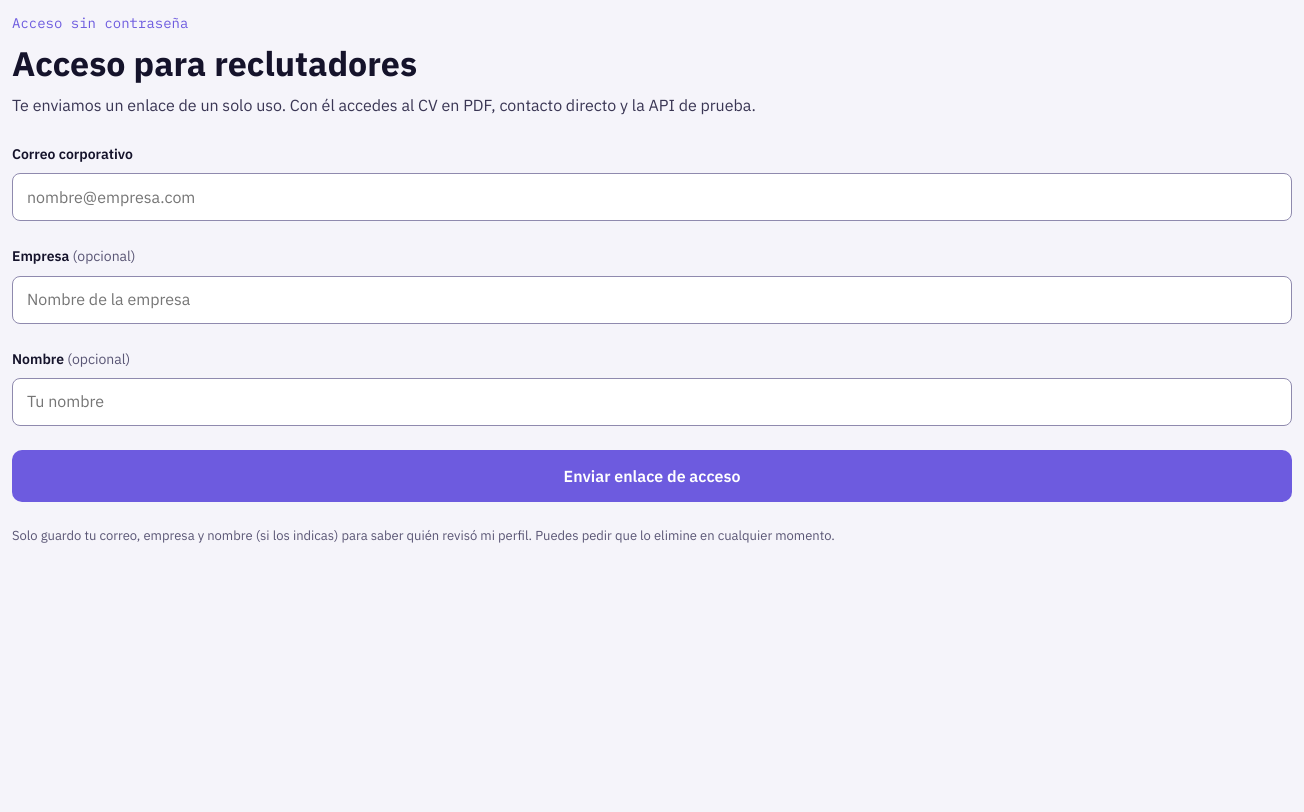
it: LoginForm validation › rejects an invalid email with a different message
Type "no-es-correo" into the field labelled "Correo corporativo" at (652, 198), box [12,174,1292,222]
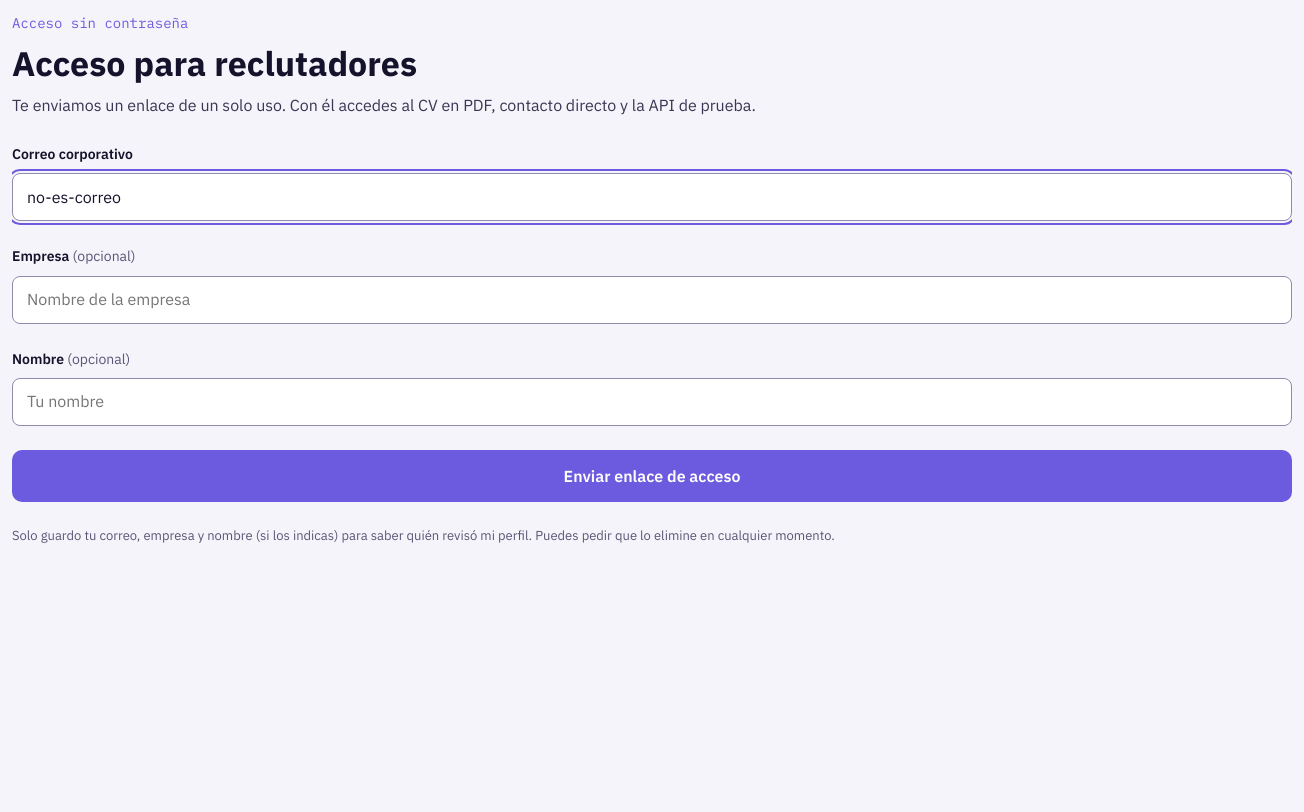
Click the button "Enviar enlace de acceso" at (652, 476), box [12,450,1292,502]
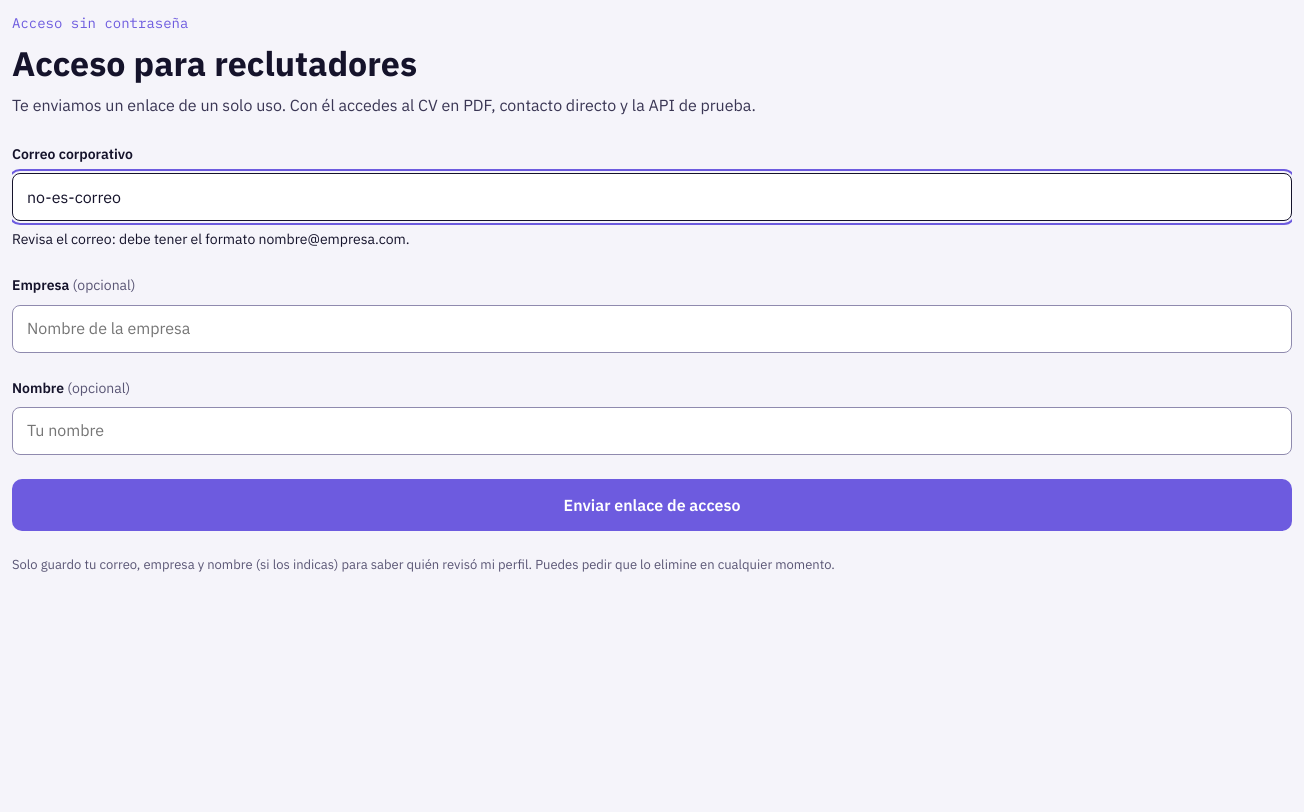
Check: the message shows "Revisa el correo", box [12,230,410,248]
